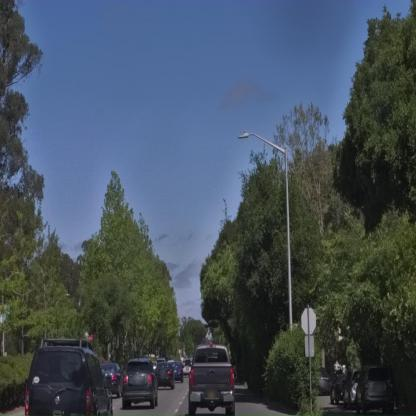car: (24, 343, 112, 416), (352, 366, 398, 416), (122, 358, 159, 409), (101, 363, 124, 398), (157, 362, 178, 389), (166, 362, 184, 384)
sign: (301, 308, 318, 335)
truck: (188, 343, 235, 414)
